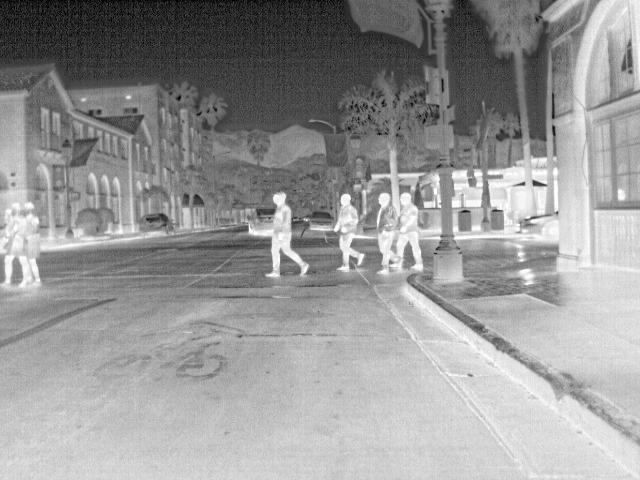car: (516, 208, 556, 245), (245, 204, 274, 237), (139, 212, 173, 237), (306, 211, 335, 231)
person: (262, 190, 310, 280), (0, 203, 37, 289), (394, 191, 427, 271), (333, 192, 364, 271), (376, 191, 404, 274), (24, 201, 46, 285)
